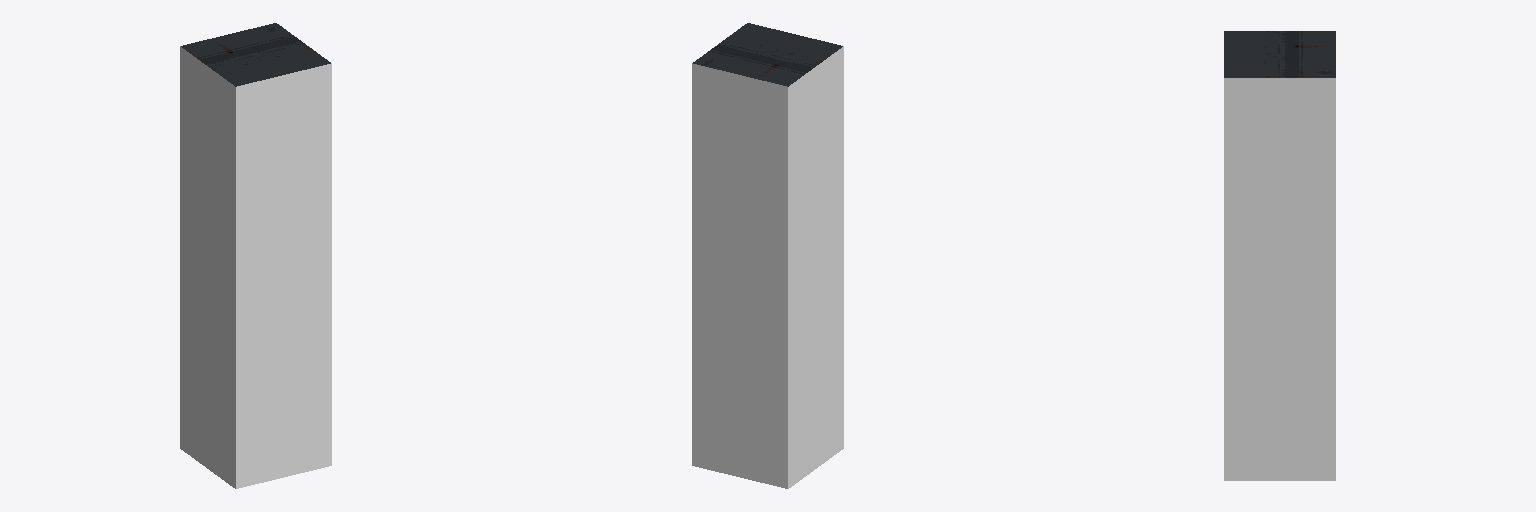
The picture shows the model from 3 angles: view 1: azimuth 30°, elevation 25°; view 2: azimuth 150°, elevation 25°; view 3: azimuth 270°, elevation 25°; orthographic projection.
Visible parts, largest first — view 1: Power Cable; view 2: Power Cable; view 3: Power Cable.
Part boxes in pixels (x1,y1,x2,y2): Power Cable: (180,23,331,488); Power Cable: (692,23,843,488); Power Cable: (1224,31,1335,480).
Bounding box in the file's own units: 0.75 × 3 × 0.75.
2 materials, 1 textured.